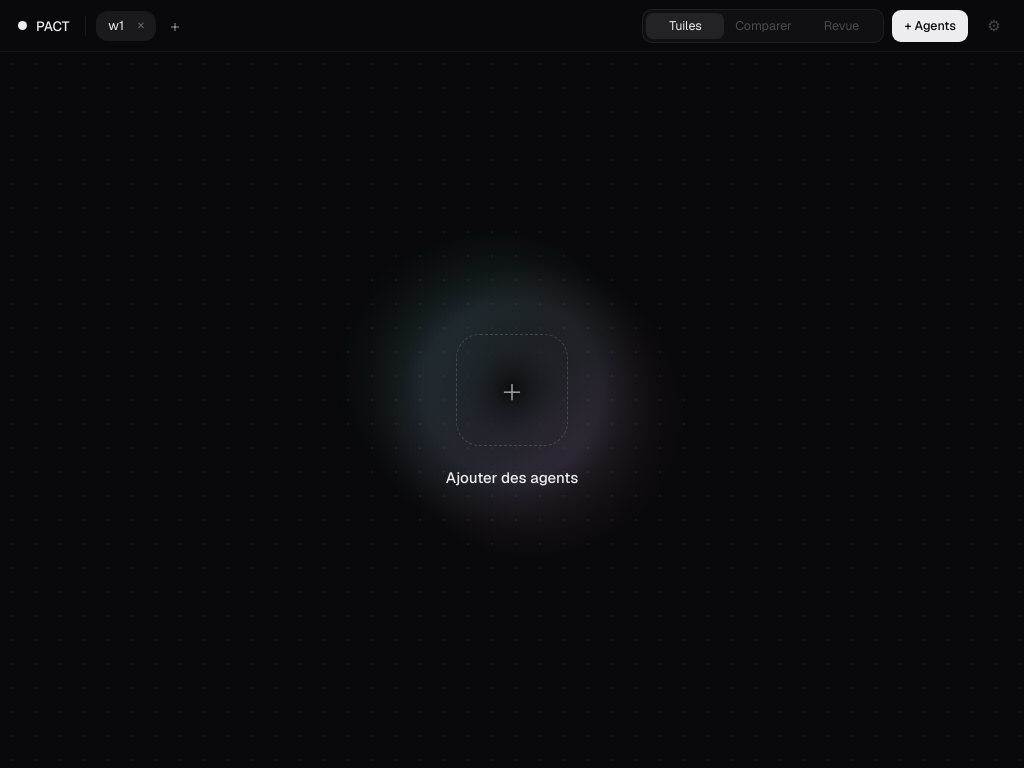
Test case: App launch flow (US2) › launches from « Ajouter des agents » through the permissions dialog
Step 1. Click the button "+ Ajouter des agents" → (74, 410), box [14,66,1010,754]
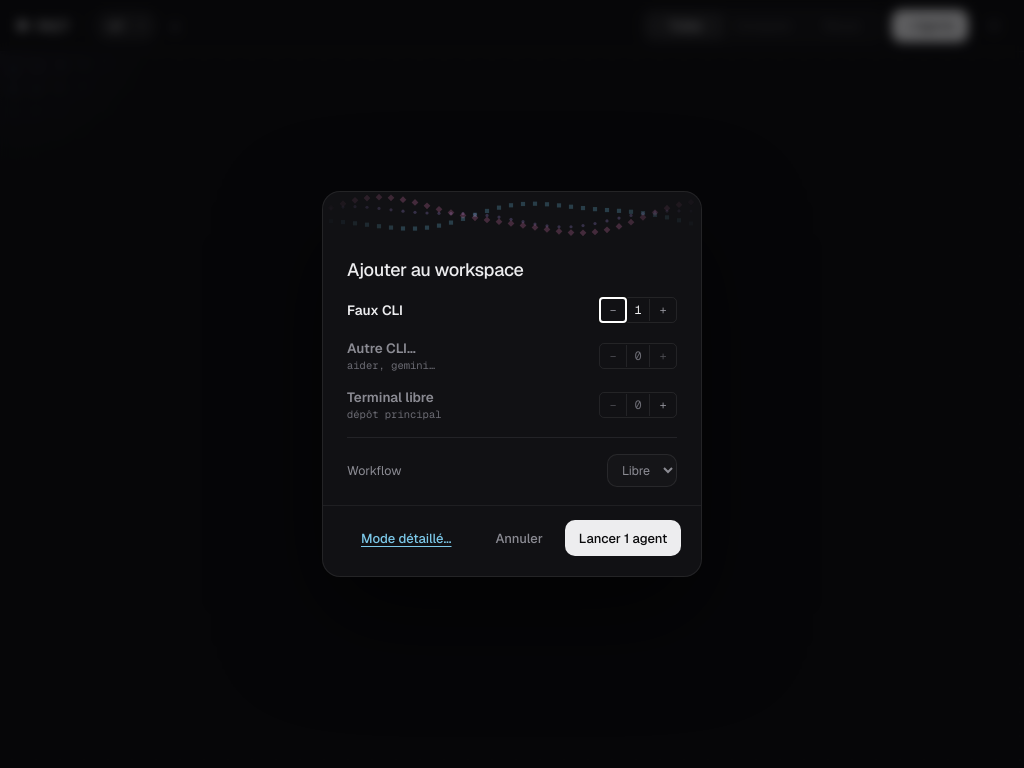
Step 2. Click the button "Lancer 1 agent" → (623, 538), box [565,520,681,556]
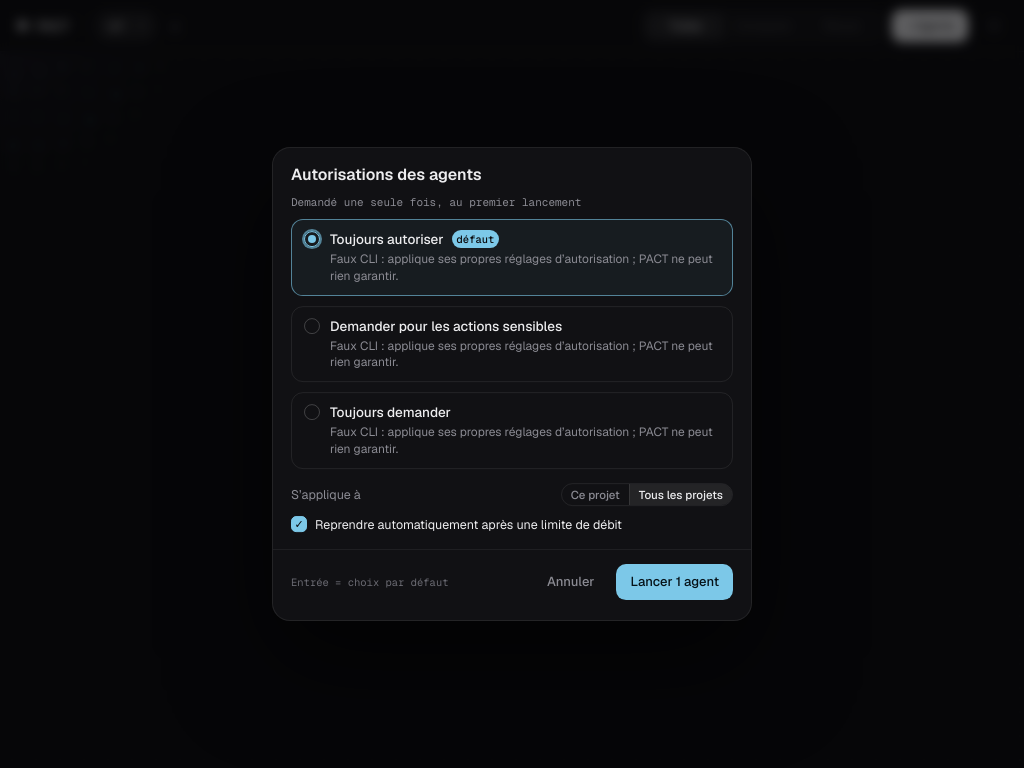
Step 3. Click the button "Lancer 1 agent" → (675, 582), box [616,564,733,600]
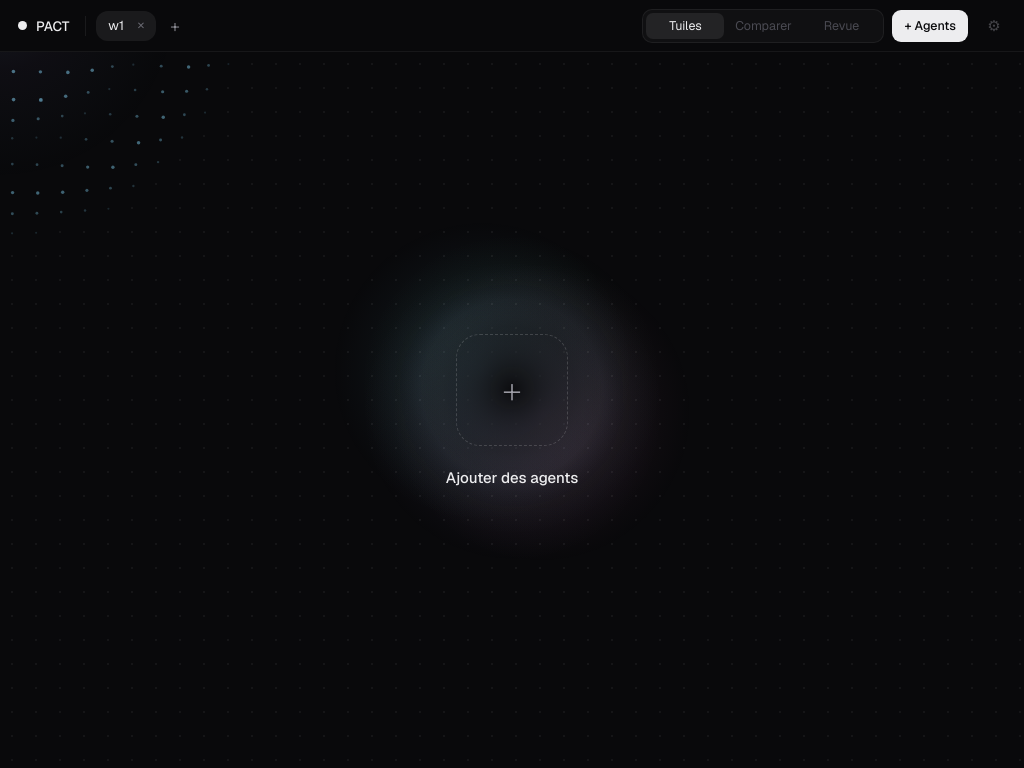
Check: the dialog is gone
